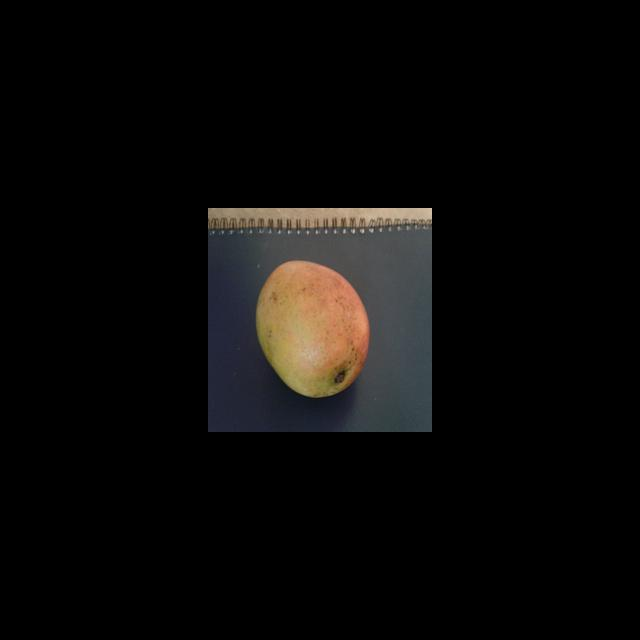Mango: (255, 259, 370, 398)
